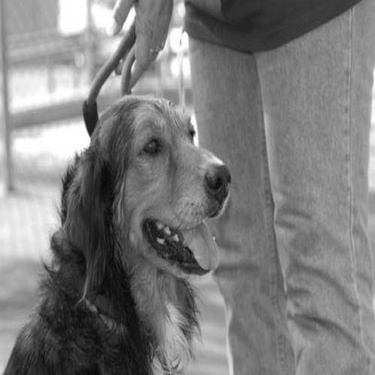dog: (4, 92, 241, 371)
